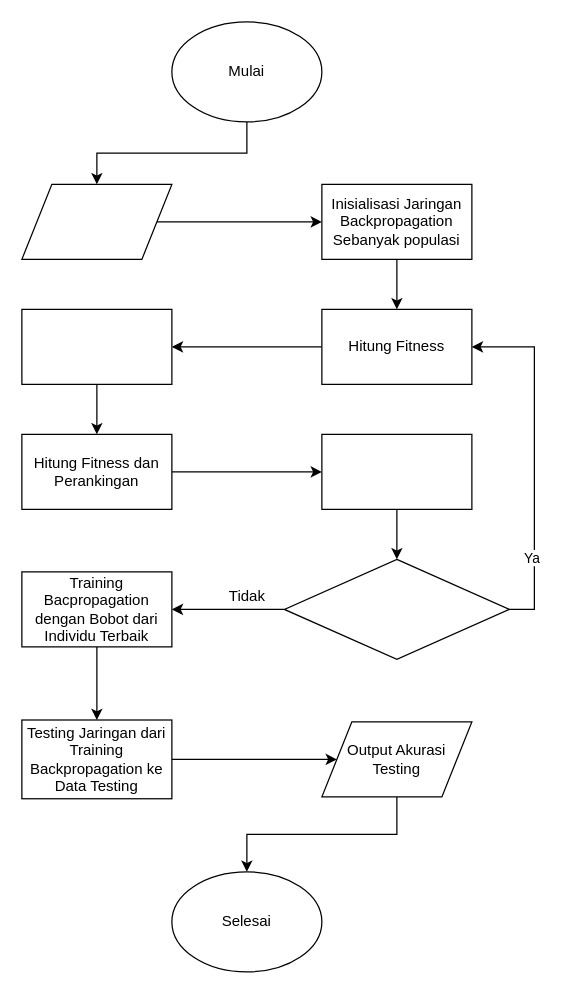
This 566x994 diagram has some shape labels left out. Here are the shapes that lost their labels. From the top down, the centre of each, then its label:
At pixel 96 221: "Input Data dan Parameter".
At pixel 96 346: "Crossover dan Mutasi".
At pixel 396 471: "Eliminasi Individu dengan Ranking Rendah".
At pixel 396 608: "Epoch < MaxEpoch ?".
